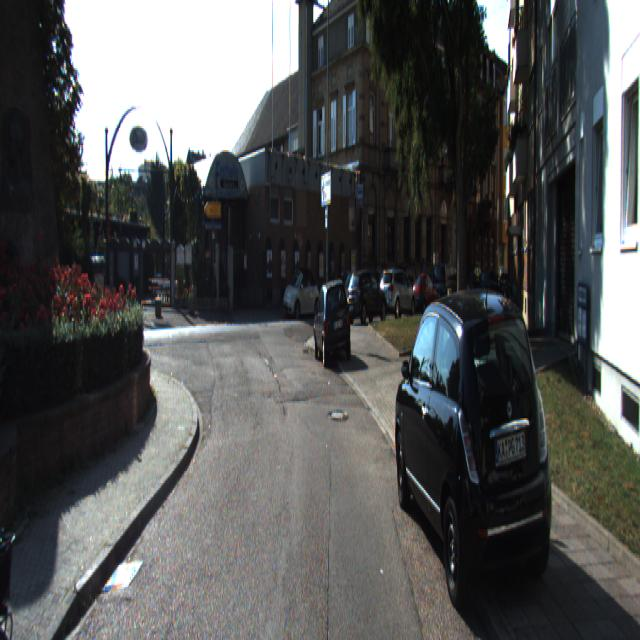Car: (392, 280, 562, 616), (312, 278, 351, 363), (346, 270, 388, 330), (282, 264, 321, 318), (378, 269, 416, 322), (432, 260, 464, 312), (412, 270, 440, 314)
